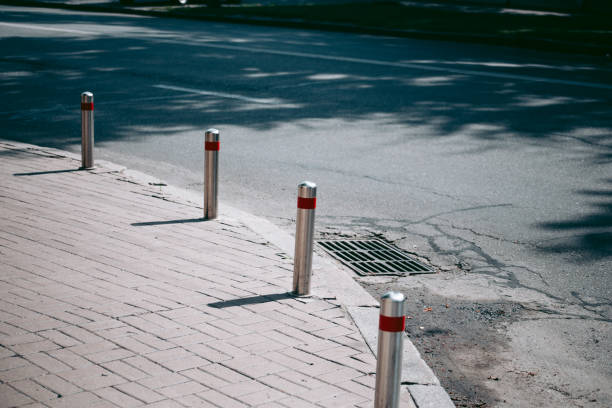bollard: (371, 287, 412, 407), (290, 176, 318, 300), (201, 124, 223, 224), (78, 86, 102, 172)
